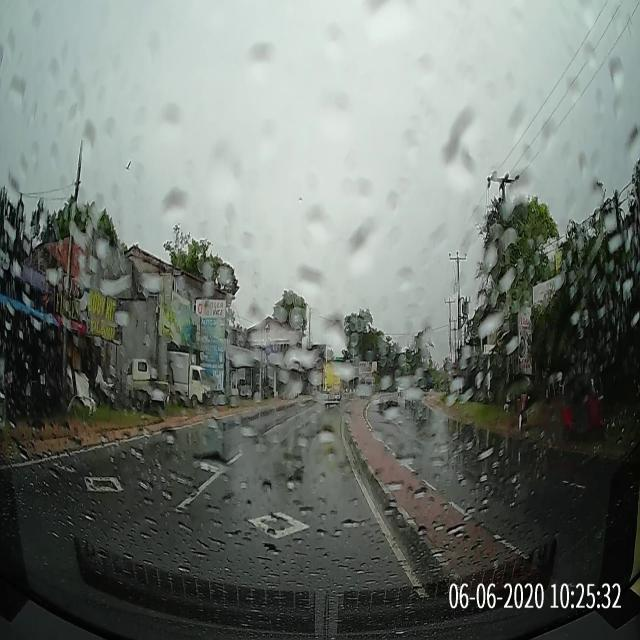diamond: (167, 494, 410, 566)
